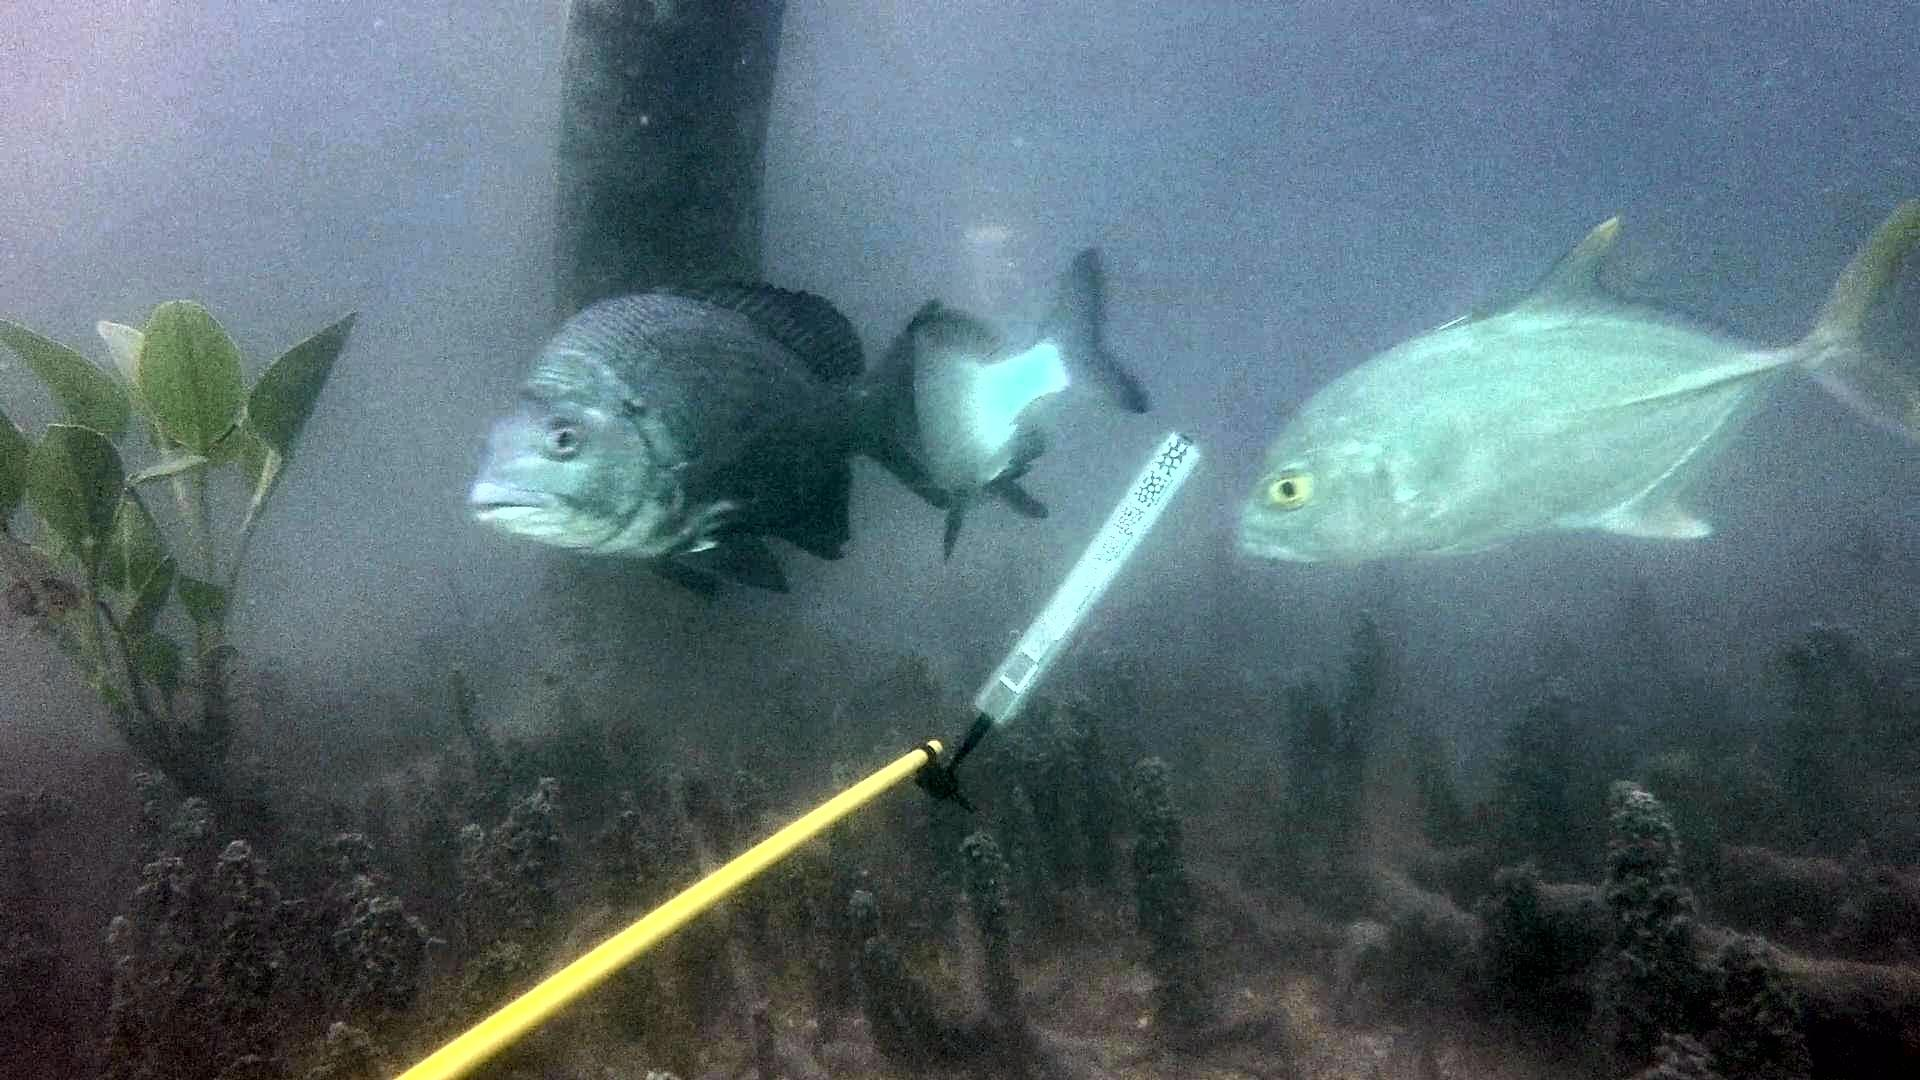acanthopagrus palmaris: (463, 265, 936, 615), (858, 233, 1159, 545)
caranx: (1225, 186, 1920, 605)
